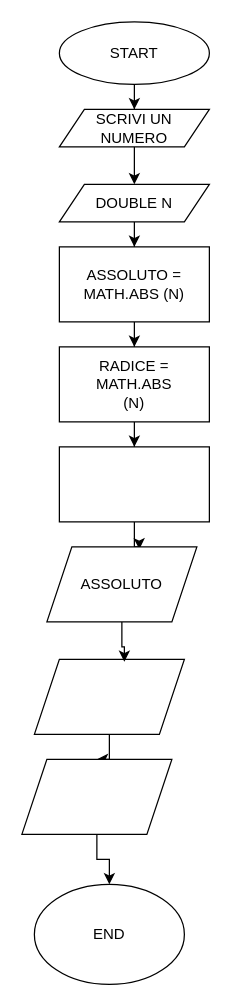
Image size: 231x1006. Some labels were removed from this diagram. The centre of each missing label's shape, as x and y in pixels:
POTENZA: point (108, 696)
POTENZA = MATH.ABS (N): point (133, 484)
RADICE: point (96, 796)
